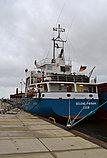Ship: (10, 28, 101, 124)
